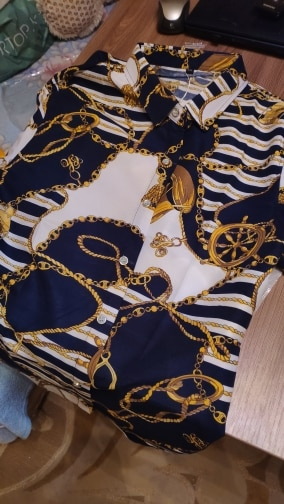shirts: (15, 61, 284, 425)
